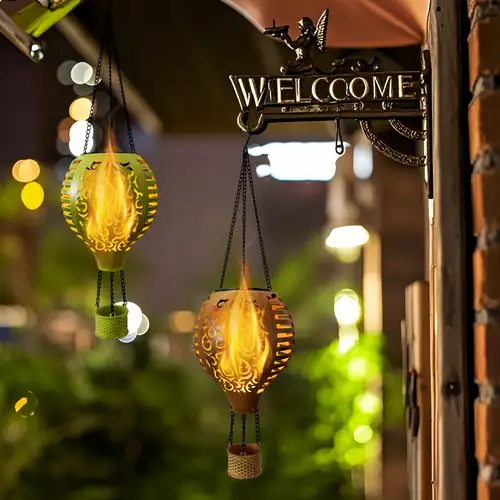Open-Flame-Hazard: (56, 116, 156, 352), (186, 266, 291, 484)
